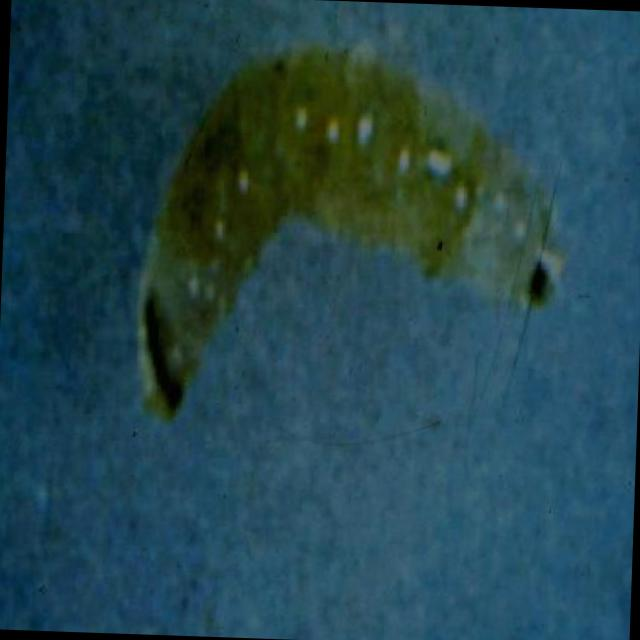whorl-maggot: (134, 40, 565, 426)
